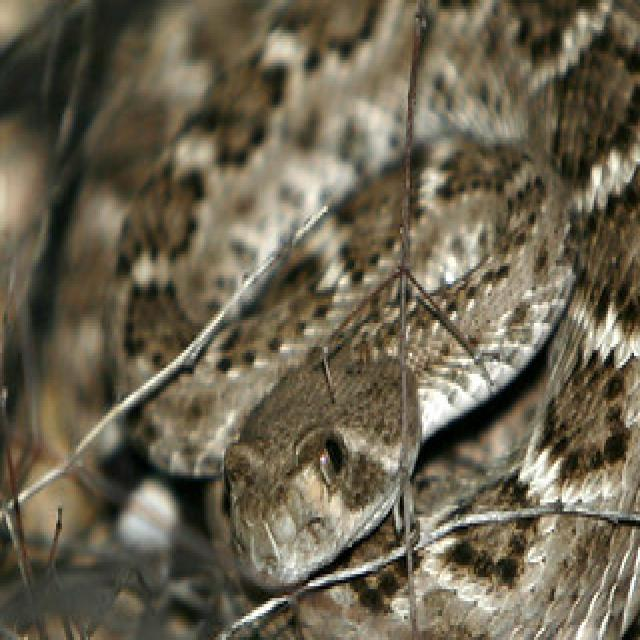snake: (124, 0, 640, 640)
